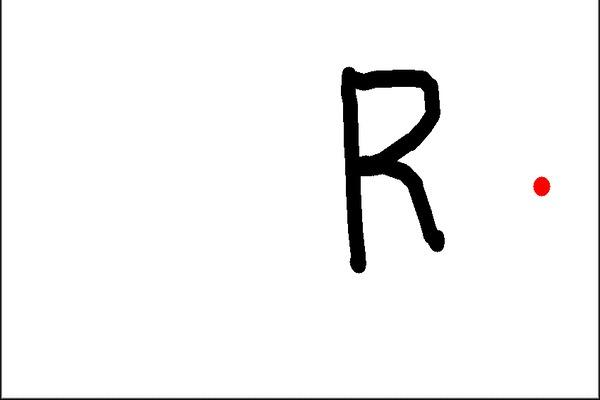R: (327, 58, 458, 275)
